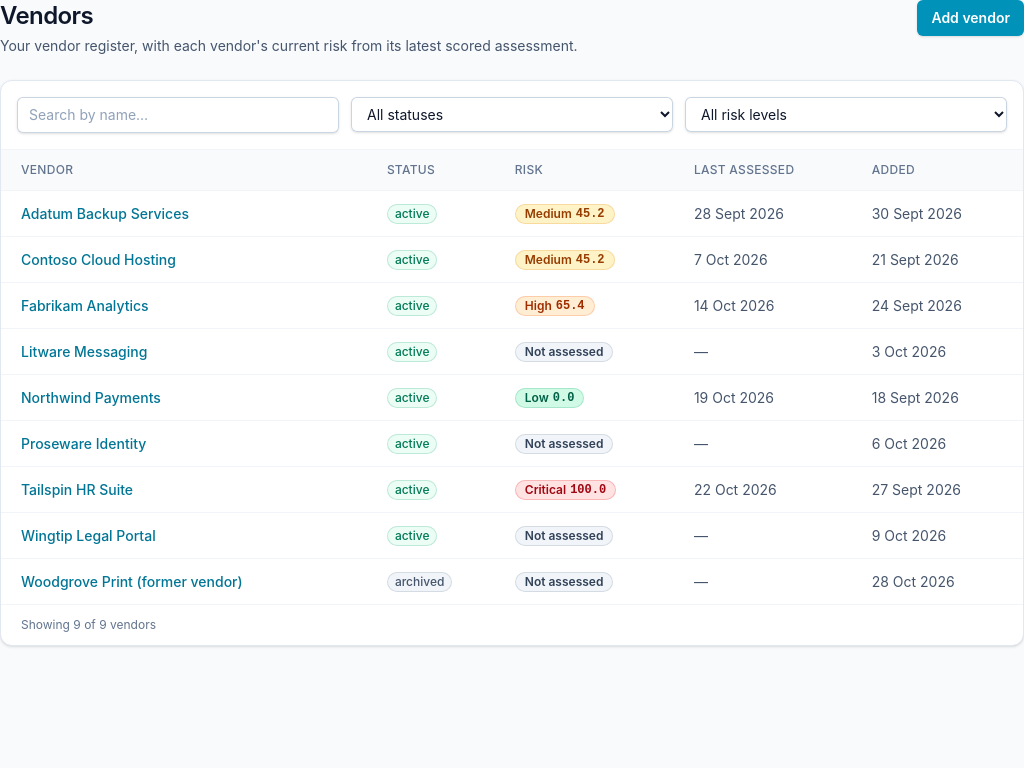
Test: Vendor register › shows server-side validation and permission errors inside the dialog
This screenshot has width=1024, height=768.
Expected: the link "Northwind Payments" is shown, [21,388,161,406]
Click the button "Add vendor".
click(971, 18)  # box [917,0,1023,36]
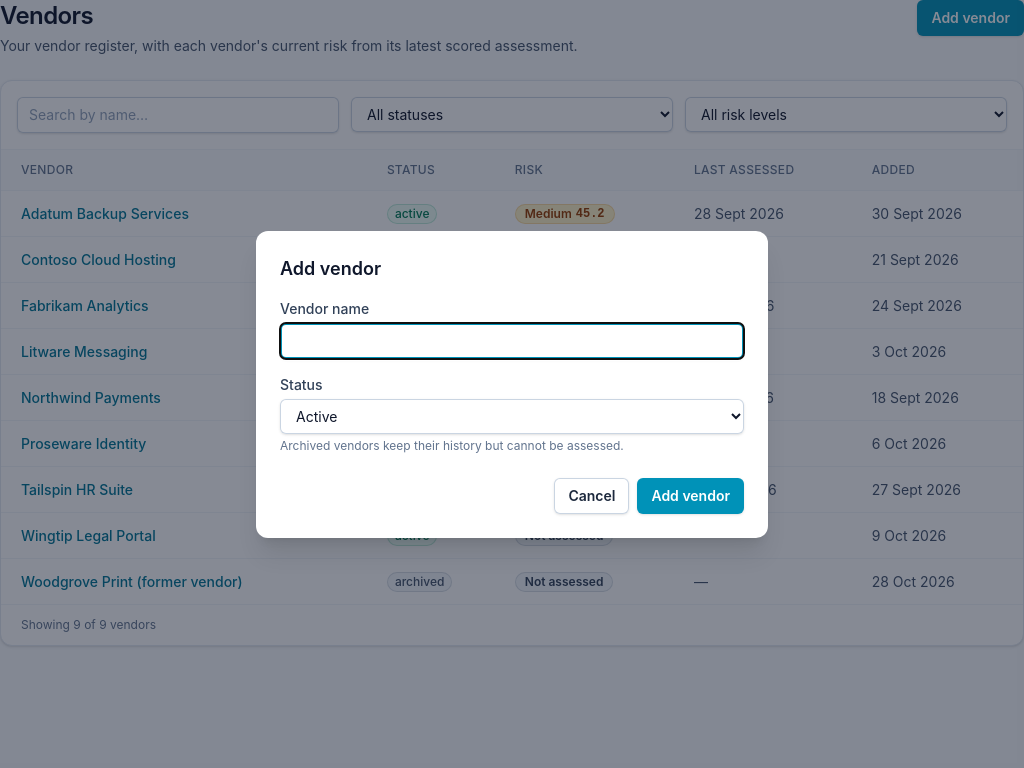
Type "Dup" into the field labelled "Vendor name".
click(512, 340); type("Dup")  # box [280,322,744,358]
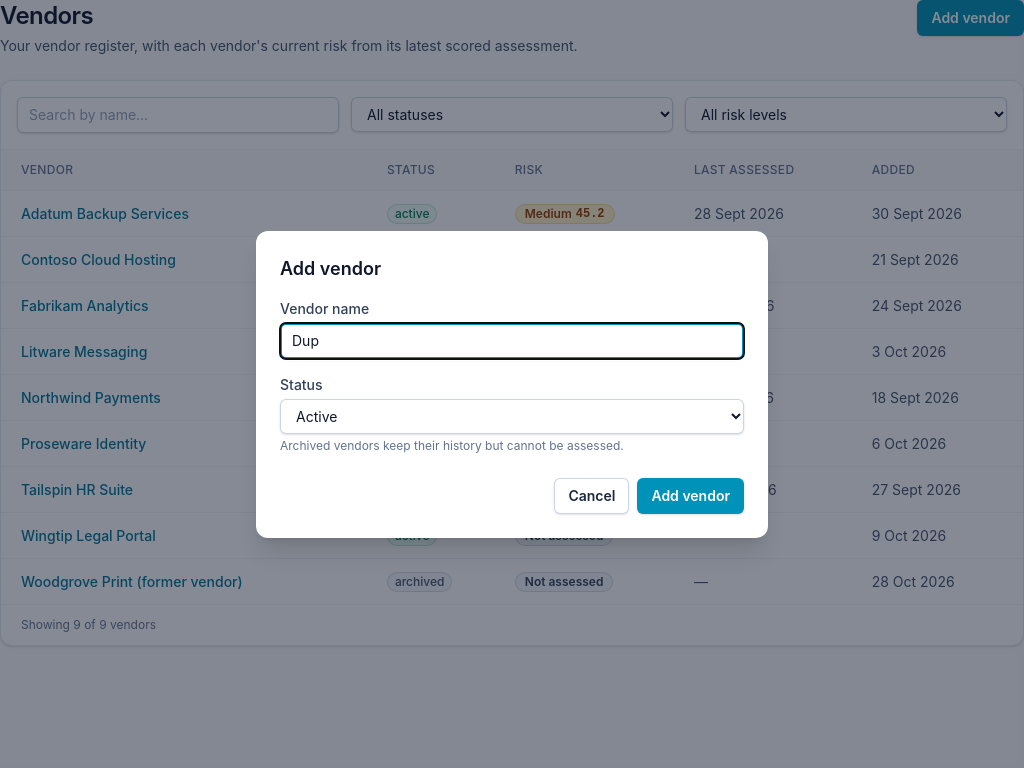
Click the button "Add vendor".
click(691, 496)  # box [637,478,744,514]
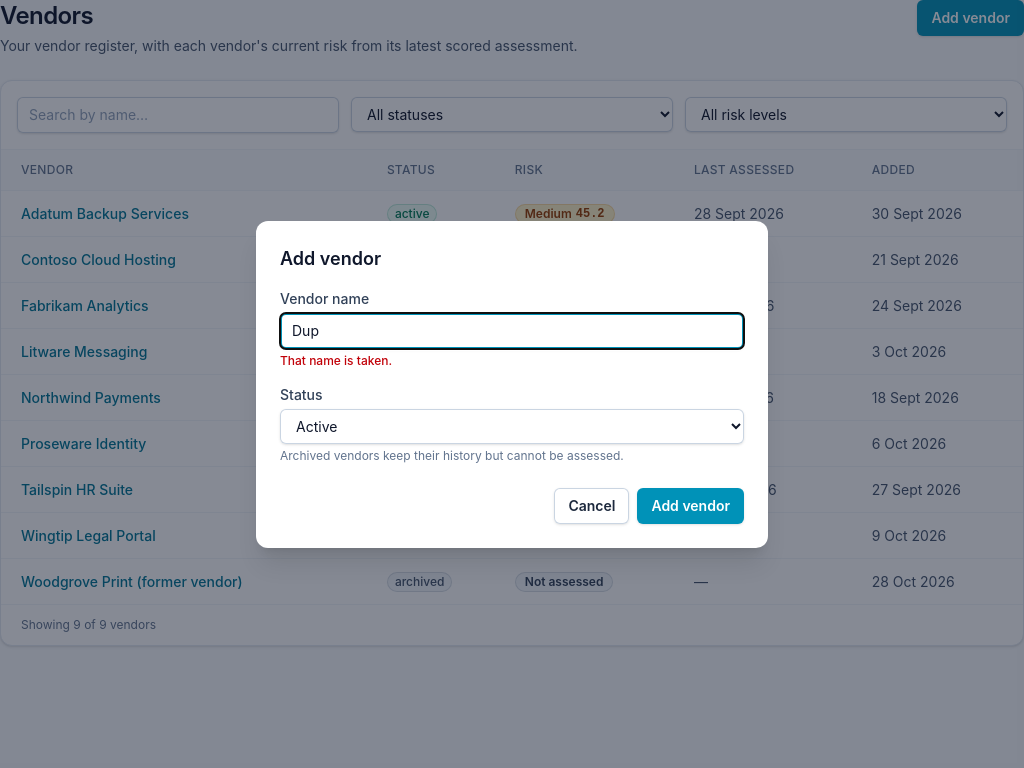
Now the text "That name is taken." is shown, box [280,352,392,368]
Click the button "Add vendor".
click(691, 506)  # box [637,488,744,524]
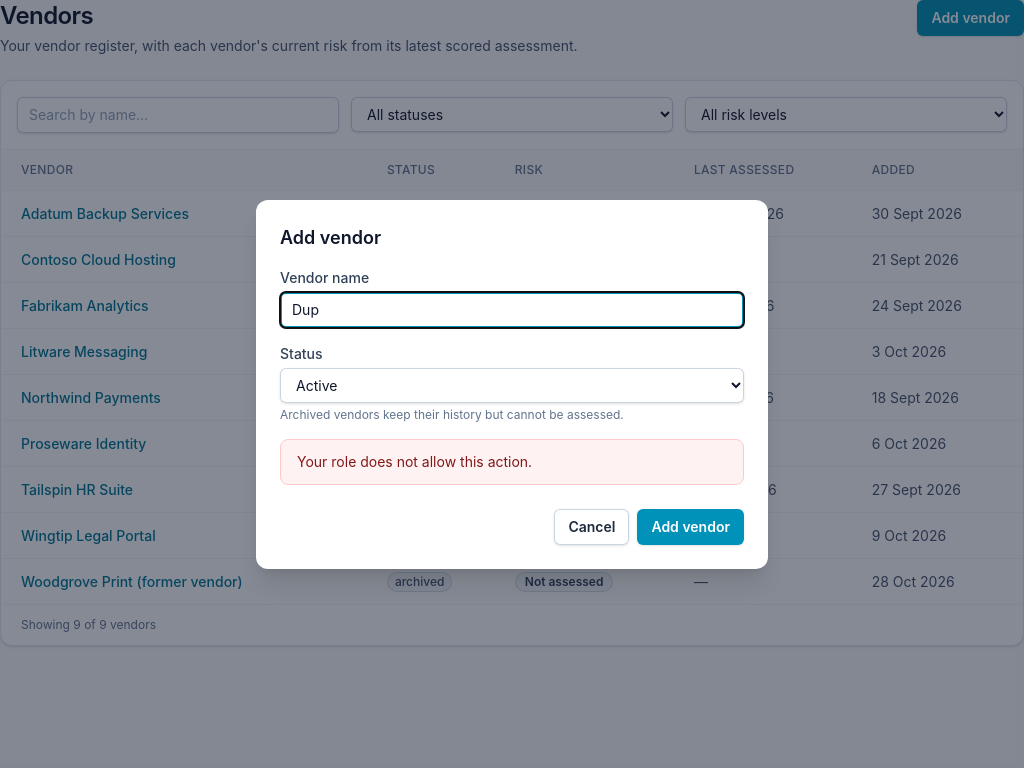
Now the message shows "role does not allow this action", box [297,452,532,470]
